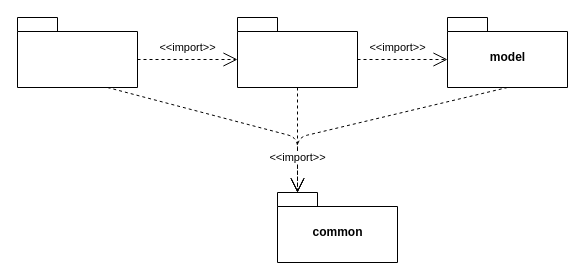
This 585x280 diagram has some shape labels left out. Here are the shapes that lost their labels. From the top down, the box of each, then its label:
(16, 16, 138, 88): view
(236, 16, 358, 88): controller
